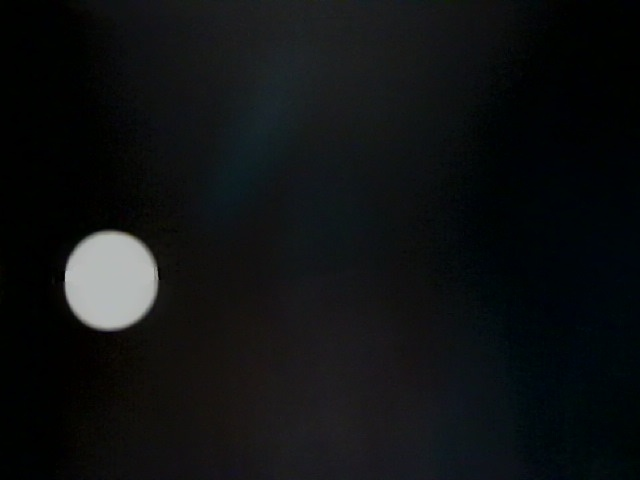KHSLJ: (151, 28, 640, 343)
